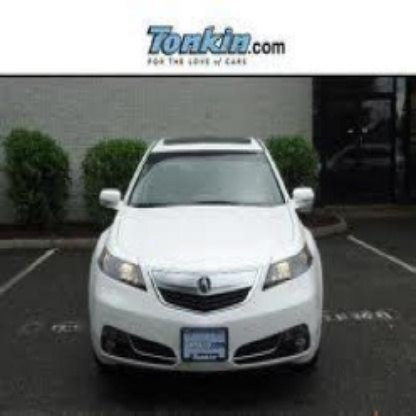Vehicle: (88, 133, 328, 382)
